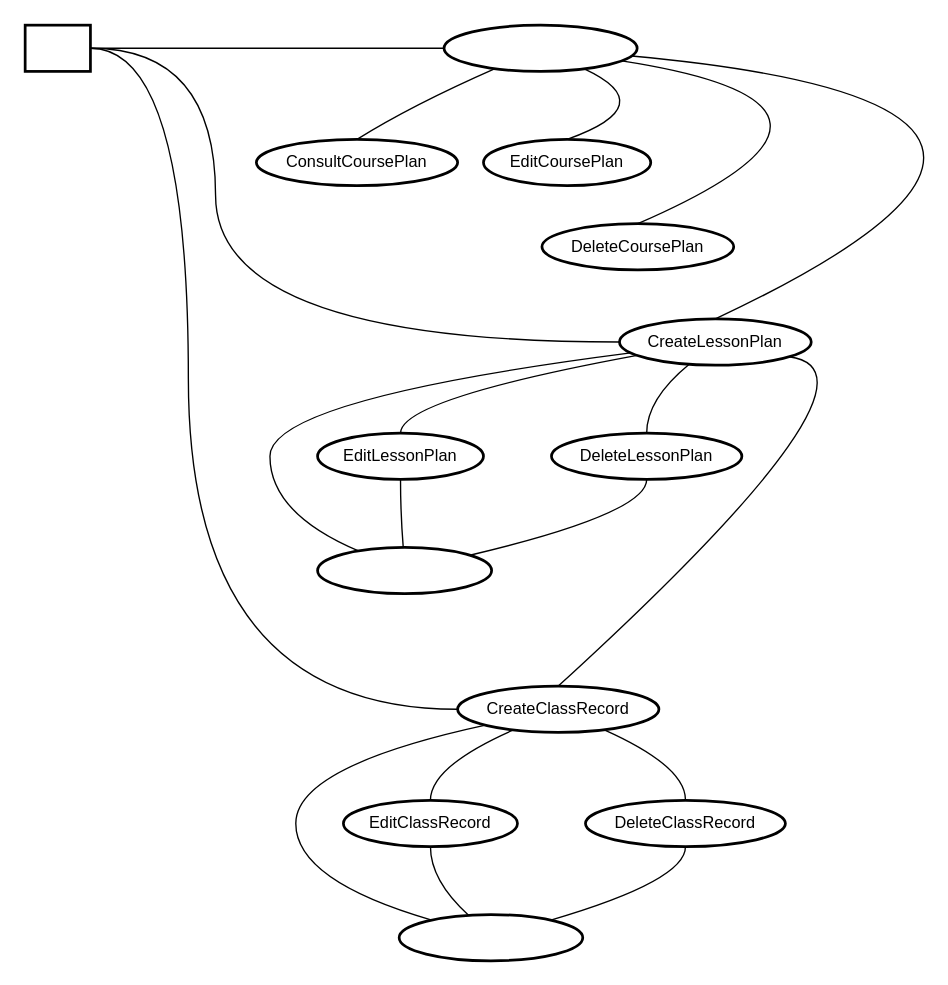
Image size: 948x985. Some labels were removed from this diagram. Here are the shapes that lost their labels. From the top down, the centre of each, then its label:
[57,47]: User
[540,47]: CreateCoursePlan
[404,569]: ViewLessonPlan
[490,937]: ViewClassRecord
